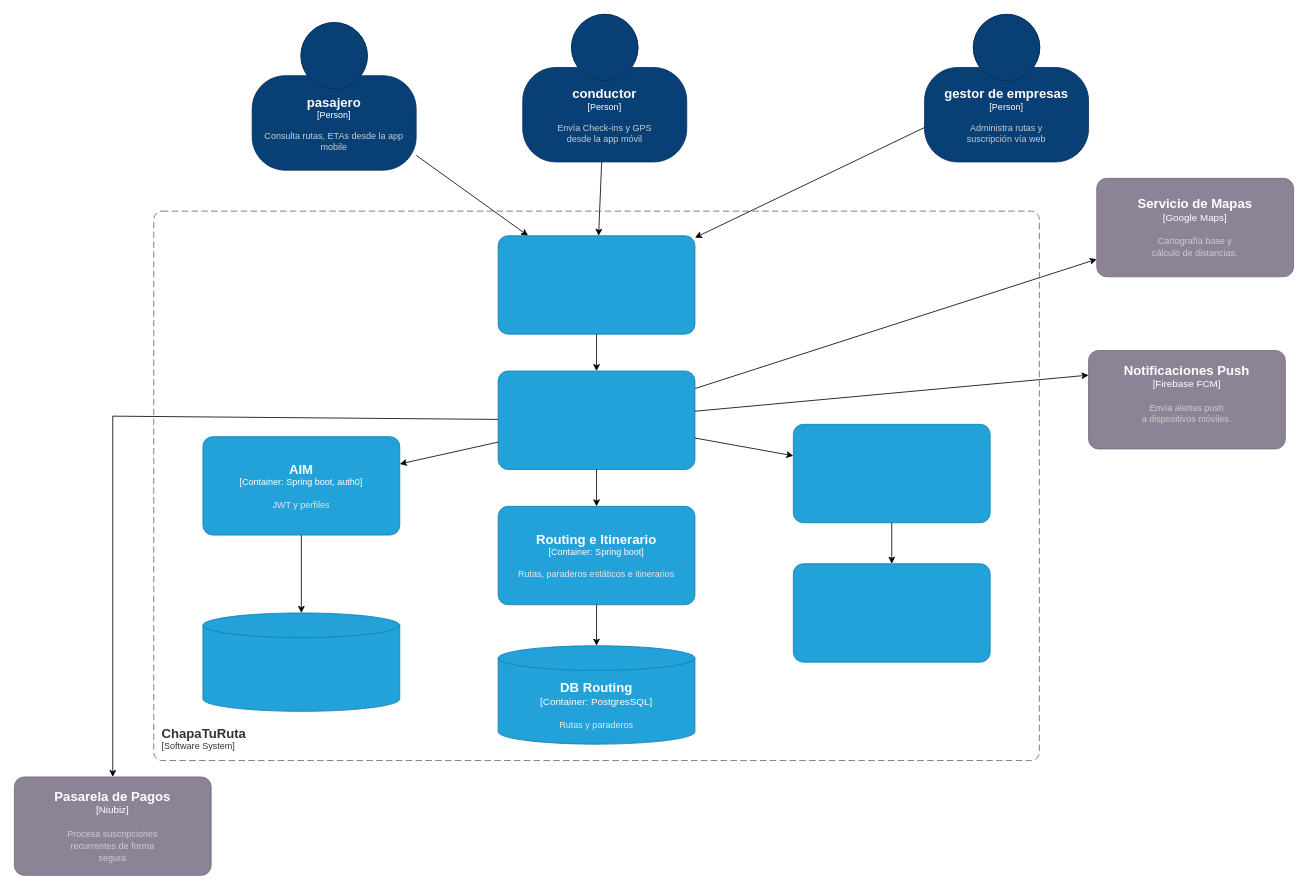
Some shapes in this 1308 by 890 pixel diagram are drawn without their labels. The shapes that lost their labels are listed below. From the top down, each one's centre as x and y in pixels, then its label:
At point 596,284: "ChapaTuRuta [Container: ] Mobile app".
At point 596,419: "API GateWay [Container: ] JWT, rate limit, enrutamiento a microservicios".
At point 891,473: "Traking y ETA [Container: Spring boot] Check-in, calculo ETA, alertas".
At point 891,612: "Tracking cache [Container: Redis] ubicacion de buses".
At point 301,661: "DB IAM [Container: PostgresSQL] Usuarios-suscripción".
